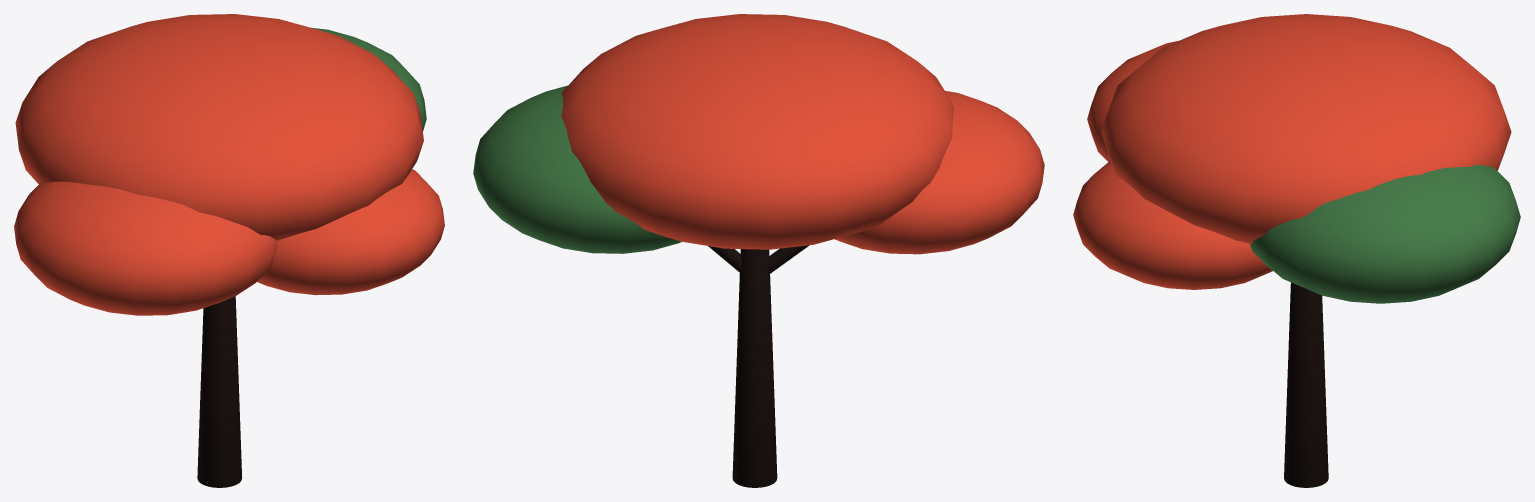
The model's file is tree-flame-7a480e98cef2.glb.
3 renders of one model, left to right at view 1: azimuth 30°, elevation 25°; view 2: azimuth 150°, elevation 25°; view 3: azimuth 270°, elevation 25°, orthographic.
Visible parts, largest first — view 1: Mesh_Flame_Blossom, Mesh_Tree_Bark, Crown_2; view 2: Mesh_Flame_Blossom, Crown_2, Mesh_Tree_Bark; view 3: Mesh_Flame_Blossom, Crown_2, Mesh_Tree_Bark.
Part boxes in pixels (x1=…): Mesh_Flame_Blossom: x1=14, y1=14, x2=444, y2=315; Mesh_Tree_Bark: x1=197, y1=296, x2=241, y2=487; Crown_2: x1=311, y1=27, x2=426, y2=130; Mesh_Flame_Blossom: x1=561, y1=14, x2=1044, y2=254; Crown_2: x1=473, y1=85, x2=681, y2=253; Mesh_Tree_Bark: x1=708, y1=245, x2=809, y2=487; Mesh_Flame_Blossom: x1=1073, y1=14, x2=1511, y2=289; Crown_2: x1=1250, y1=164, x2=1520, y2=303; Mesh_Tree_Bark: x1=1284, y1=282, x2=1328, y2=487.
Size of the model in its own units: 5.65 by 5.05 by 4.8.
Materials: 3 (1 with a texture image).
